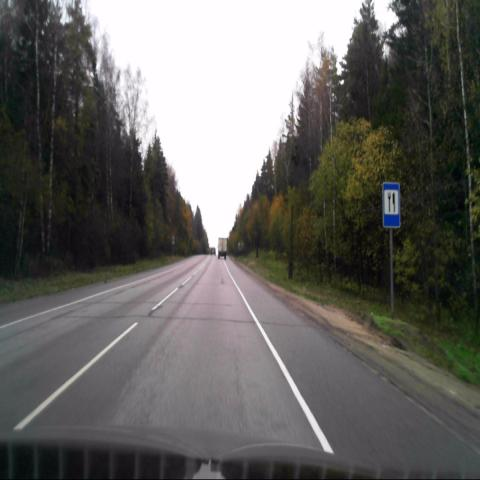7_7: (382, 183, 400, 227)
